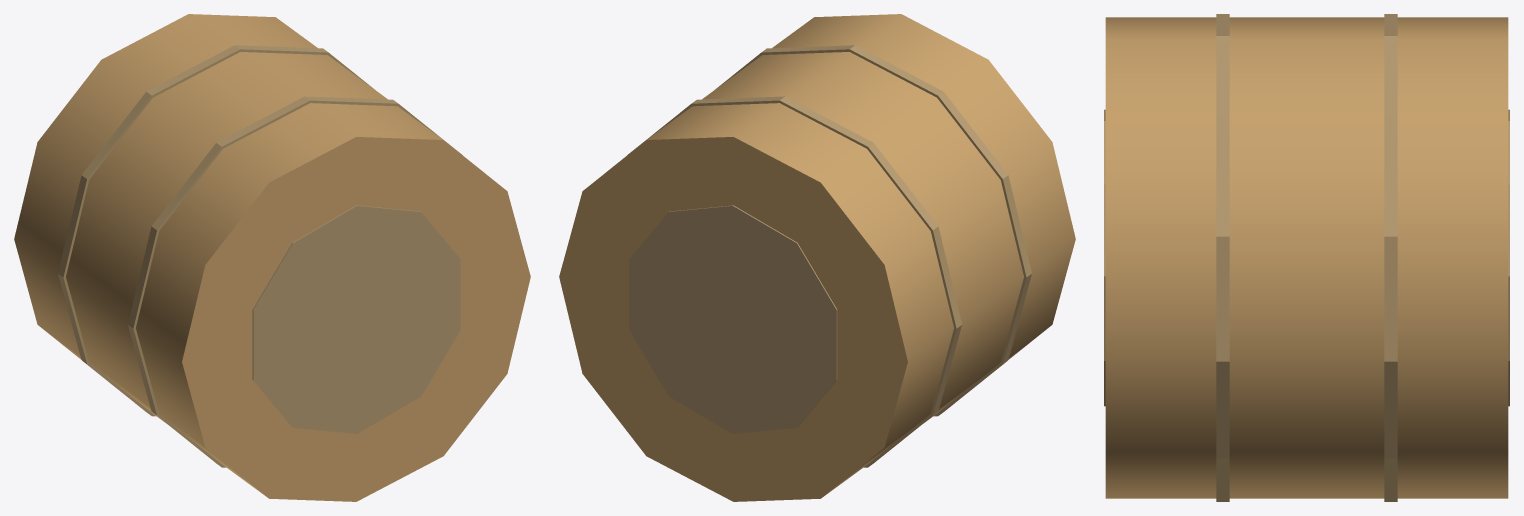
Rendered from hay_round.glb.
3 views of the same model, side by side, from view 1: azimuth 30°, elevation 25°; view 2: azimuth 150°, elevation 25°; view 3: azimuth 270°, elevation 25° (orthographic). The views are drawn at different scales.
Visible parts, largest first — view 1: hay_round; view 2: hay_round; view 3: hay_round.
Part boxes in pixels (x1,y1,x2,y2): hay_round: (14, 14, 530, 501); hay_round: (559, 14, 1075, 501); hay_round: (1104, 14, 1509, 501).
Size of the model in its own units: 1.46 by 1.46 by 1.21.
1 material, 1 textured.
